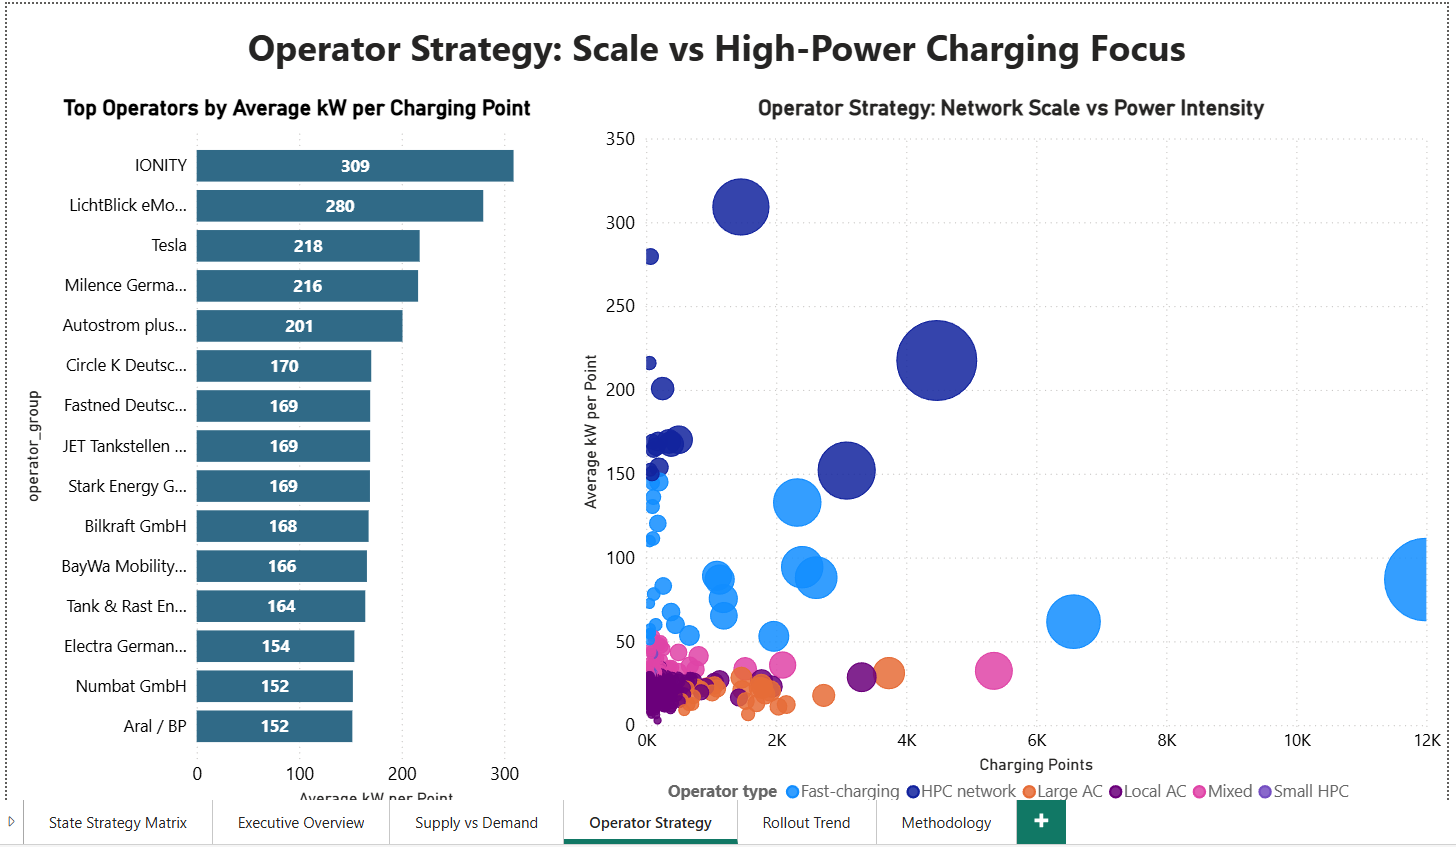

Layout of this report page (visuals, bound fields, positions):
{"tool":"powerbi","page":{"name":"Operator Strategy","canvas":[1280,720],"ordinal":3},"visuals":[{"type":"clusteredBarChart","title":"Top Operators by Average kW per Charging Point","fields":{"Category":["Operator_Archetypes.operator_group"],"Y":["Sum(Operator_Archetypes.avg_kw_per_point)"]},"box":[10,81.4,495.7,638.6],"z":0},{"type":"scatterChart","title":"Operator Strategy: Network Scale vs Power Intensity","fields":{"X":["Sum(Operator_Archetypes.charging_points)"],"Y":["Sum(Operator_Archetypes.avg_kw_per_point)"],"Size":["Sum(Operator_Archetypes.installed_power_mw)"],"Category":["Operator_Archetypes.operator_group"],"Series":["Operator_Archetypes.Archetype"]},"box":[505.7,81.4,774.3,638.6],"z":1000},{"type":"textbox","box":[208.6,11.4,862.9,54.3],"z":2000}]}

Visuals, with their boxes on the page's 1280x720 design canvas (x1, y1, x2, y2). These are canvas units, not pixel positions in the 1456x847 screenshot, which may show the page scaled, cropped or inside an application window:
"Top Operators by Average kW per Charging Point" clusteredBarChart: pyautogui.locateOnScreen(10, 81, 506, 720)
"Operator Strategy: Network Scale vs Power Intensity" scatterChart: pyautogui.locateOnScreen(506, 81, 1280, 720)
textbox: pyautogui.locateOnScreen(209, 11, 1072, 66)
